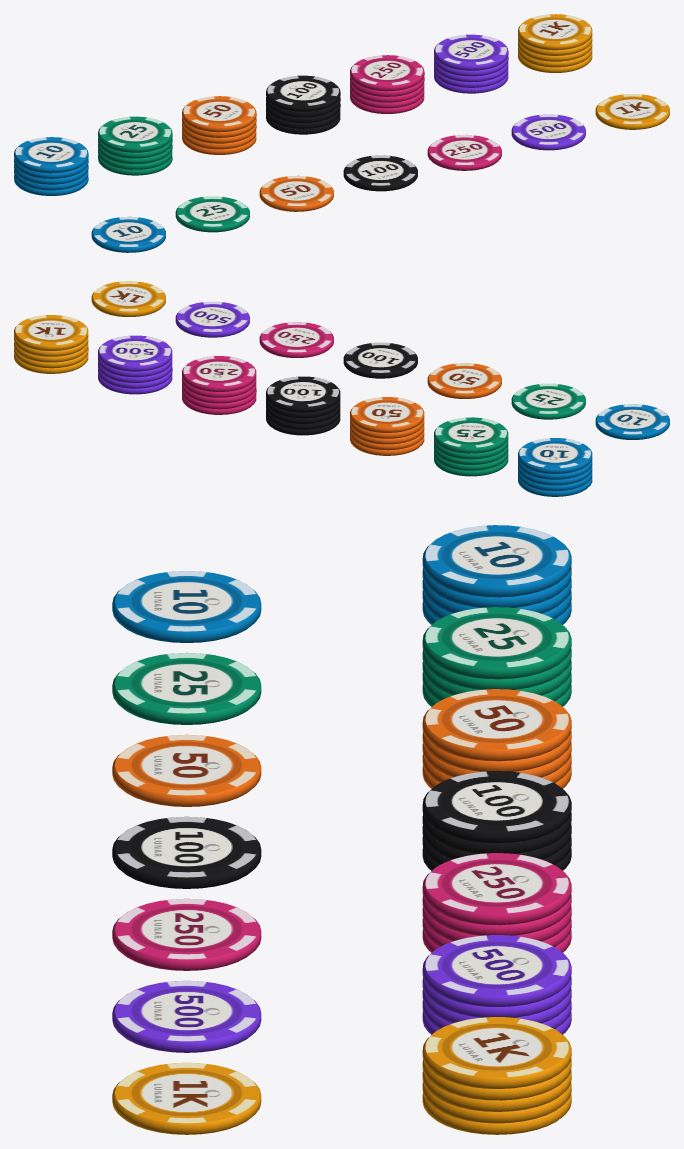
Rendered from chips.glb.
3 views of the same model, one above another, from view 1: azimuth 30°, elevation 25°; view 2: azimuth 150°, elevation 25°; view 3: azimuth 270°, elevation 25° (orthographic). The views are drawn at different scales.
Parts seen in each view (by area): view 1: ChipStack_25, ChipStack_100, ChipStack_500, ChipStack_50, ChipStack_10, ChipStack_250, ChipStack_1000, Chip_25, Chip_100, Chip_500, Chip_10, Chip_50 (+2 smaller); view 2: ChipStack_10, ChipStack_50, ChipStack_500, ChipStack_25, ChipStack_100, ChipStack_250, ChipStack_1000, Chip_25, Chip_100, Chip_500, Chip_1000, Chip_10 (+2 smaller); view 3: ChipStack_1000, ChipStack_10, ChipStack_25, ChipStack_50, ChipStack_100, ChipStack_250, ChipStack_500, Chip_1000, Chip_500, Chip_250, Chip_25, Chip_50 (+2 smaller).
Boxes of the visible parts, x1,y1,x2,y2 form: ChipStack_25: (98, 116, 172, 175); ChipStack_100: (266, 75, 340, 134); ChipStack_500: (434, 34, 508, 93); ChipStack_50: (182, 96, 256, 154); ChipStack_10: (14, 137, 88, 195); ChipStack_250: (350, 55, 424, 113); ChipStack_1000: (518, 14, 592, 72); Chip_25: (175, 196, 249, 232); Chip_100: (343, 155, 417, 191); Chip_500: (511, 114, 585, 150); Chip_10: (91, 216, 165, 252); Chip_50: (259, 175, 333, 211); ChipStack_10: (518, 438, 592, 496); ChipStack_50: (350, 397, 424, 455); ChipStack_500: (98, 335, 172, 394); ChipStack_25: (434, 417, 508, 476); ChipStack_100: (266, 376, 340, 435); ChipStack_250: (182, 356, 256, 414); ChipStack_1000: (14, 315, 88, 373); Chip_25: (511, 383, 585, 419); Chip_100: (343, 342, 417, 378); Chip_500: (175, 301, 249, 337); Chip_1000: (91, 281, 165, 316); Chip_10: (595, 404, 669, 439); ChipStack_1000: (422, 1017, 571, 1134); ChipStack_10: (422, 525, 571, 624); ChipStack_25: (422, 607, 571, 706); ChipStack_50: (422, 689, 571, 788); ChipStack_100: (422, 771, 571, 870); ChipStack_250: (422, 853, 571, 952); ChipStack_500: (422, 935, 571, 1034); Chip_1000: (112, 1062, 261, 1134); Chip_500: (112, 980, 261, 1052); Chip_250: (112, 898, 261, 970); Chip_25: (112, 652, 261, 724); Chip_50: (112, 734, 261, 806).
Size of the model in its own units: 0.3432 by 0.0165 by 0.1201.
14 materials, 7 textured.
